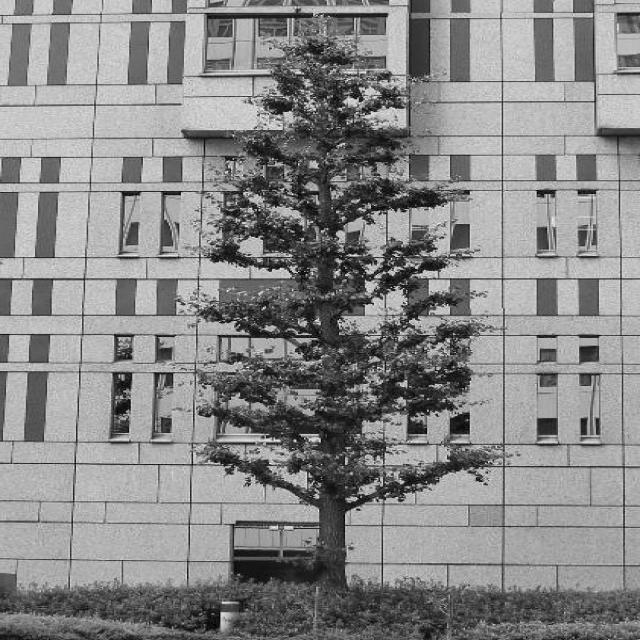ginkgo: (172, 14, 524, 592)
